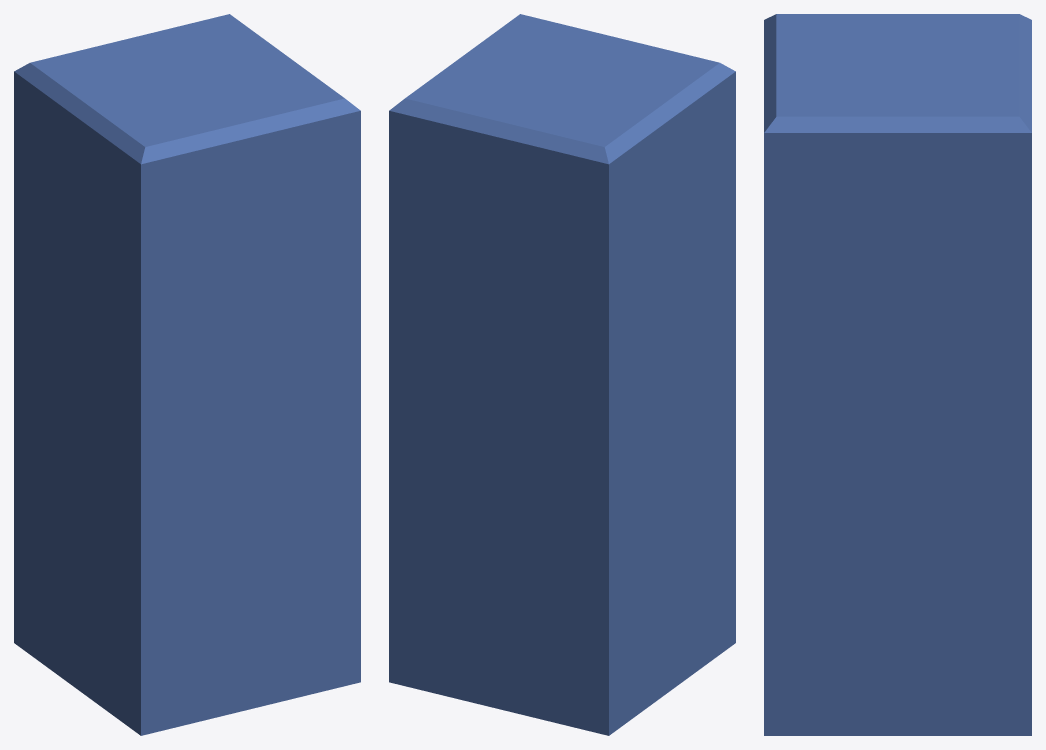
The model's file is Pilar.fbx.
3 views of the same model, side by side, from view 1: azimuth 30°, elevation 25°; view 2: azimuth 150°, elevation 25°; view 3: azimuth 270°, elevation 25° (orthographic). The views are drawn at different scales.
Visible parts, largest first — view 1: Cube; view 2: Cube; view 3: Cube.
Boxes of the visible parts, bbox=[...] form: Cube: bbox=[14, 14, 360, 735]; Cube: bbox=[389, 14, 735, 735]; Cube: bbox=[764, 14, 1031, 735].
Bounding box in the file's own units: 400 × 1012 × 400.
